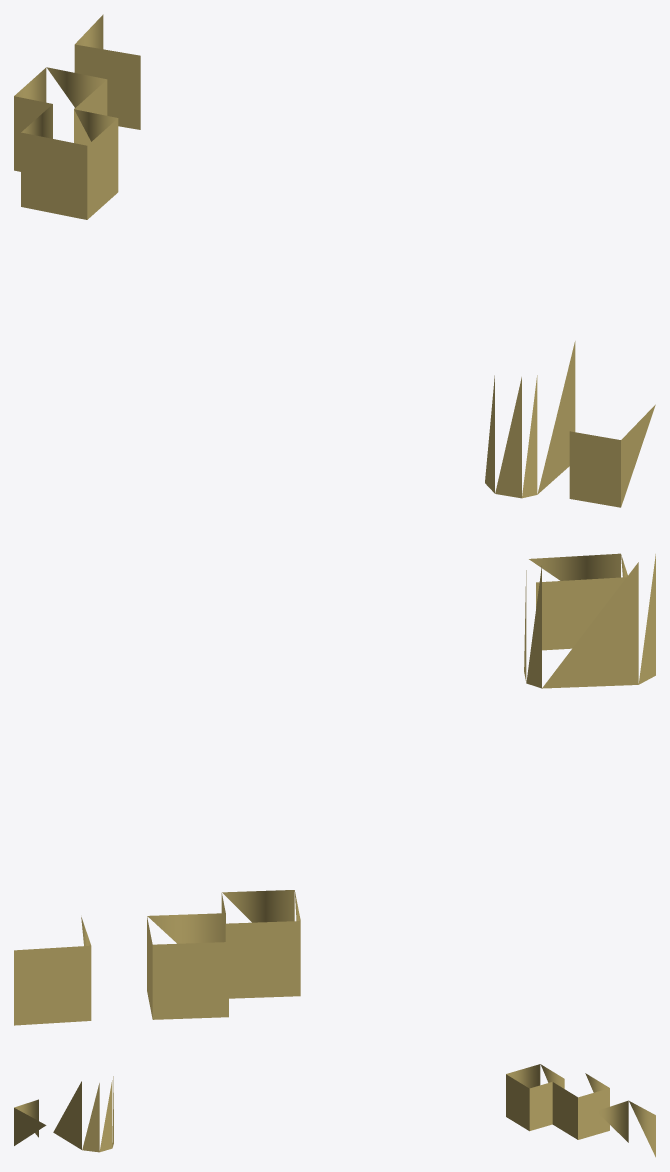
3 views of the same model, one above another, from view 1: azimuth 30°, elevation 25°; view 2: azimuth 150°, elevation 25°; view 3: azimuth 270°, elevation 25° (orthographic). The views are drawn at different scales.
Bounding box in the file's own units: 79.3 × 45 × 375.
